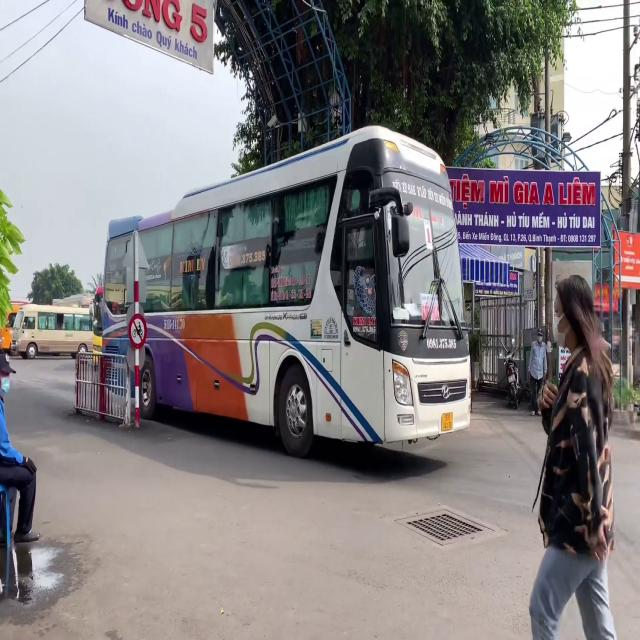bien_vang: (441, 412, 453, 431)
